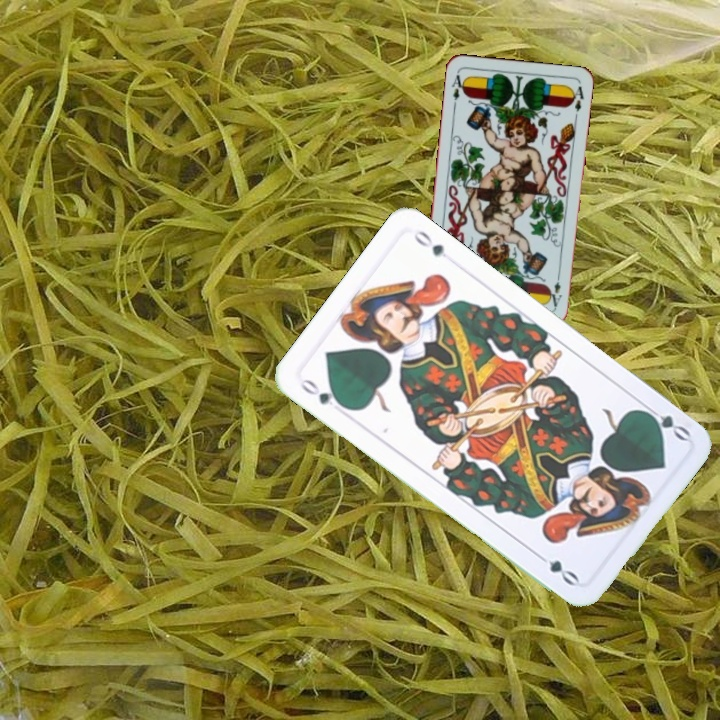EA: (447, 69, 468, 109), (546, 269, 565, 309)
GO: (637, 400, 693, 444), (296, 374, 349, 411)
